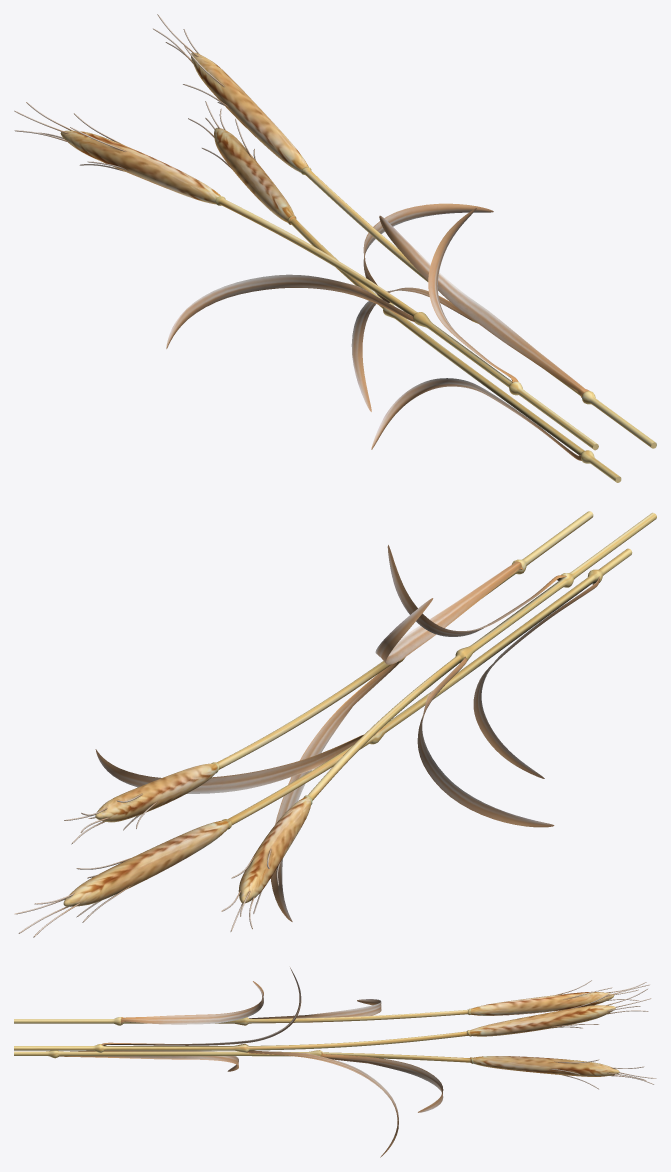
The model's file is wheat.glb.
3 views of the same model, one above another, from view 1: azimuth 30°, elevation 25°; view 2: azimuth 150°, elevation 25°; view 3: azimuth 270°, elevation 25° (orthographic). The views are drawn at different scales.
Visible parts, largest first — view 1: 10458_Wheat_Field_v1_max2010_it2.001; view 2: 10458_Wheat_Field_v1_max2010_it2.001; view 3: 10458_Wheat_Field_v1_max2010_it2.001.
Boxes of the visible parts, left/top/right/bottom form: 10458_Wheat_Field_v1_max2010_it2.001: left=14, top=14, right=656, bottom=482; 10458_Wheat_Field_v1_max2010_it2.001: left=14, top=511, right=656, bottom=937; 10458_Wheat_Field_v1_max2010_it2.001: left=14, top=967, right=656, bottom=1157.
Size of the model in its own units: 1.65 by 1.15 by 3.73.
Materials: 1 (1 with a texture image).
